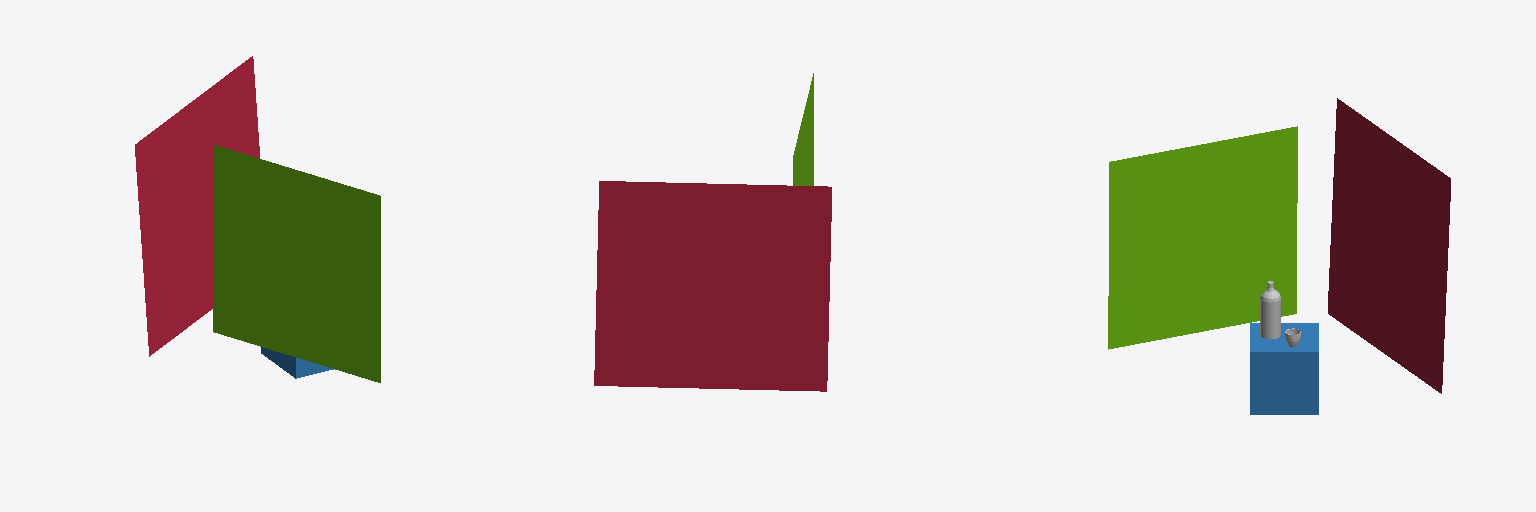
Rendered from showrefractionglass.obj.
3 renders of one model, left to right at view 1: azimuth 30°, elevation 25°; view 2: azimuth 150°, elevation 25°; view 3: azimuth 270°, elevation 25°, orthographic.
Parts seen in each view (by area): view 1: Plane.001, Plane_Plane.002, Cube.001; view 2: Plane_Plane.002, Plane.001; view 3: Plane.001, Plane_Plane.002, Cube.001, Cylinder_Cylinder.002.
Boxes of the visible parts, x1=… form: Plane.001: x1=213, y1=145, x2=380, y2=382; Plane_Plane.002: x1=135, y1=56, x2=259, y2=356; Cube.001: x1=261, y1=347, x2=333, y2=378; Plane_Plane.002: x1=594, y1=181, x2=831, y2=391; Plane.001: x1=793, y1=73, x2=813, y2=185; Plane.001: x1=1108, y1=126, x2=1297, y2=349; Plane_Plane.002: x1=1328, y1=98, x2=1450, y2=393; Cube.001: x1=1250, y1=323, x2=1318, y2=414; Cylinder_Cylinder.002: x1=1260, y1=281, x2=1280, y2=338.
Size of the model in its own units: 6.18 by 7.49 by 9.89.